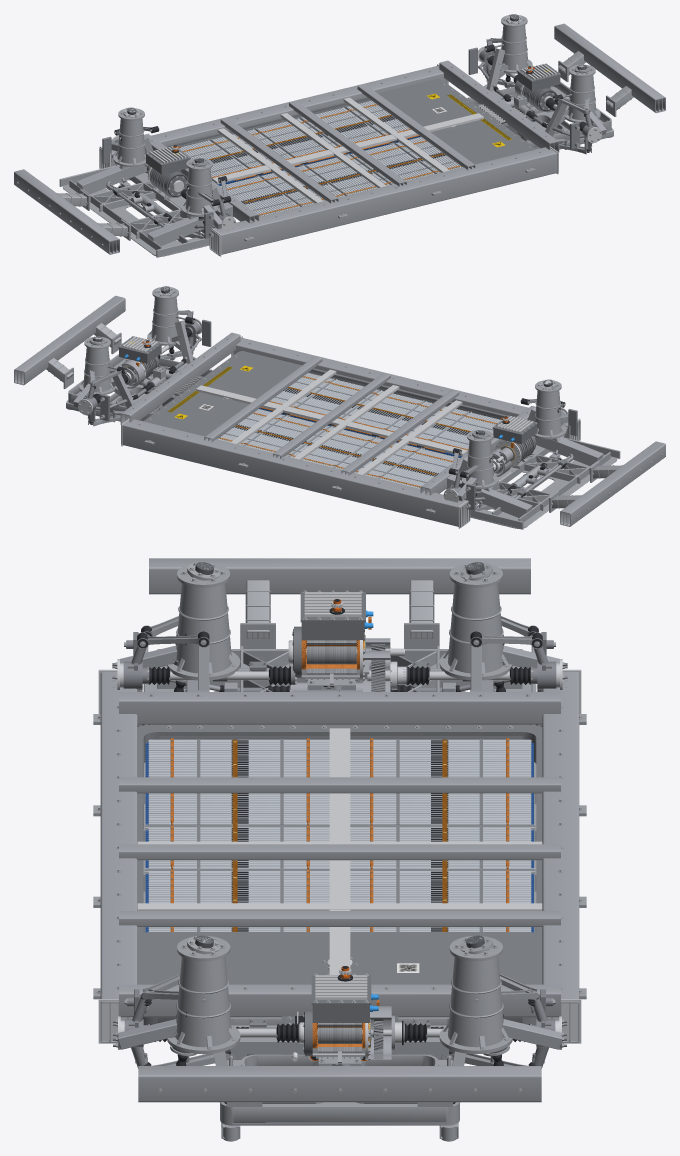
The model's file is xpeng-g9l-xray.glb.
3 renders of one model, top to bottom at view 1: azimuth 30°, elevation 25°; view 2: azimuth 150°, elevation 25°; view 3: azimuth 270°, elevation 25°, orthographic. The views are drawn at different scales.
Parts seen in each view (by area): view 1: XR_Frame_Floor, XR_Battery, XR_Battery_Lid, XR_Frame_SubR, XR_Frame_CrashF, XR_Frame_CrashR, XR_Frame_SubF, XR_Susp_RL_Tower, XR_Susp_RR_Tower, XR_Susp_FR_Tower, XR_Susp_FL_Tower, XR_Battery_Busbars (+12 smaller); view 2: XR_Frame_Floor, XR_Battery, XR_Battery_Lid, XR_Frame_SubR, XR_Frame_CrashF, XR_Frame_CrashR, XR_Frame_SubF, XR_Susp_RL_Tower, XR_Susp_RR_Tower, XR_Susp_FL_Tower, XR_Susp_FR_Tower, XR_Battery_Busbars (+13 smaller); view 3: XR_Frame_Floor, XR_Battery, XR_Battery_Lid, XR_Frame_CrashF, XR_Frame_CrashR, XR_Frame_SubF, XR_Susp_FL_Tower, XR_Susp_FR_Tower, XR_Susp_RL_Tower, XR_Susp_RR_Tower, XR_Frame_SubR, XR_Drive_R_Inverter (+20 smaller).
Part boxes in pixels (left/top/right/bottom): XR_Frame_Floor: left=99, top=60, right=559, bottom=256; XR_Battery: left=178, top=100, right=462, bottom=216; XR_Battery_Lid: left=164, top=78, right=536, bottom=216; XR_Frame_SubR: left=59, top=135, right=233, bottom=257; XR_Frame_CrashF: left=554, top=23, right=665, bottom=116; XR_Frame_CrashR: left=14, top=169, right=130, bottom=254; XR_Frame_SubF: left=467, top=48, right=613, bottom=149; XR_Susp_RL_Tower: left=111, top=108, right=146, bottom=166; XR_Susp_RR_Tower: left=181, top=158, right=222, bottom=228; XR_Susp_FR_Tower: left=564, top=64, right=606, bottom=135; XR_Susp_FL_Tower: left=493, top=15, right=532, bottom=73; XR_Battery_Busbars: left=182, top=104, right=460, bottom=214; XR_Frame_Floor: left=120, top=332, right=580, bottom=528; XR_Battery: left=217, top=372, right=502, bottom=488; XR_Battery_Lid: left=143, top=351, right=507, bottom=488; XR_Frame_SubR: left=446, top=407, right=620, bottom=529; XR_Frame_CrashF: left=14, top=295, right=125, bottom=388; XR_Frame_CrashR: left=549, top=441, right=665, bottom=526; XR_Frame_SubF: left=66, top=320, right=212, bottom=421; XR_Susp_RL_Tower: left=457, top=430, right=498, bottom=500; XR_Susp_RR_Tower: left=533, top=380, right=568, bottom=439; XR_Susp_FL_Tower: left=73, top=336, right=115, bottom=407; XR_Susp_FR_Tower: left=147, top=287, right=186, bottom=345; XR_Battery_Busbars: left=219, top=376, right=497, bottom=487; XR_Frame_Floor: left=93, top=669, right=586, bottom=1043; XR_Battery: left=144, top=739, right=535, bottom=932; XR_Battery_Lid: left=137, top=724, right=542, bottom=984; XR_Frame_CrashF: left=138, top=1066, right=541, bottom=1106; XR_Frame_CrashR: left=149, top=558, right=530, bottom=648; XR_Frame_SubF: left=213, top=1017, right=466, bottom=1141; XR_Susp_FL_Tower: left=439, top=936, right=562, bottom=1054; XR_Susp_FR_Tower: left=117, top=936, right=240, bottom=1054; XR_Susp_RL_Tower: left=439, top=562, right=559, bottom=680; XR_Susp_RR_Tower: left=120, top=562, right=240, bottom=680; XR_Frame_SubR: left=143, top=644, right=536, bottom=725; XR_Drive_R_Inverter: left=300, top=590, right=373, bottom=639.
Size of the model in its own units: 4.73 by 0.6869 by 1.81.
29 materials, 12 textured.
